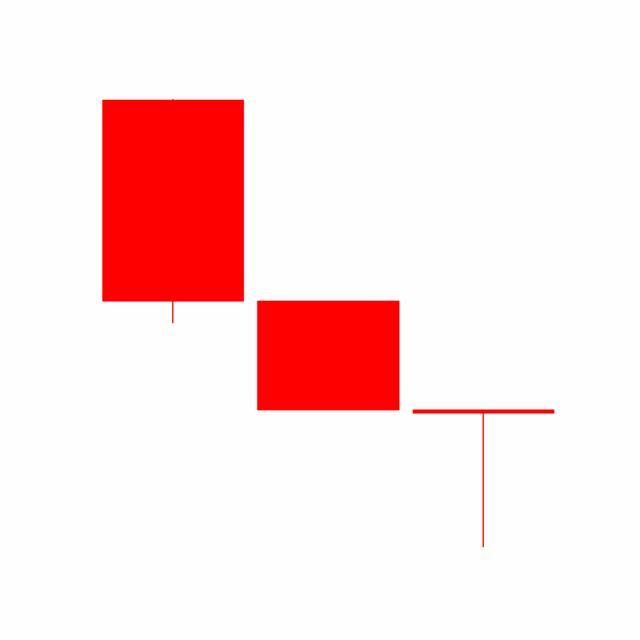Dragonfly Doji: (406, 408, 562, 550)
